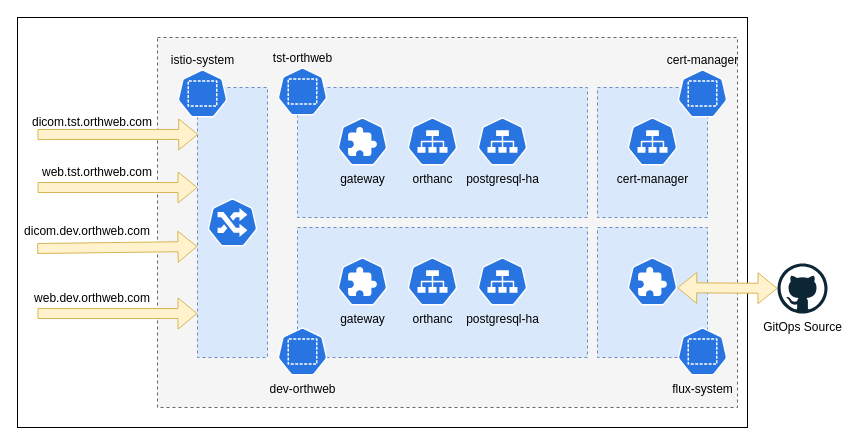
Some shapes in this 859 by 445 pixel diagram are drawn without their labels. The shapes that lost their labels are listed below. From the top down, each one's centre as x and y in pixels, then its label:
[232,222]: Ingress
[652,281]: kustomization
